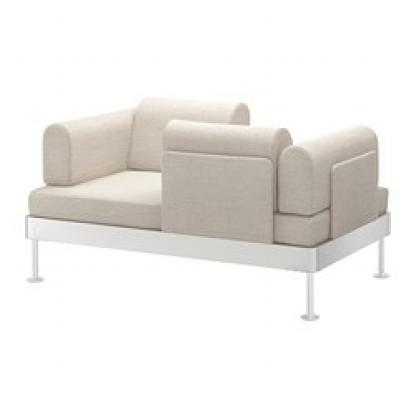Sofa: (18, 64, 393, 335)
